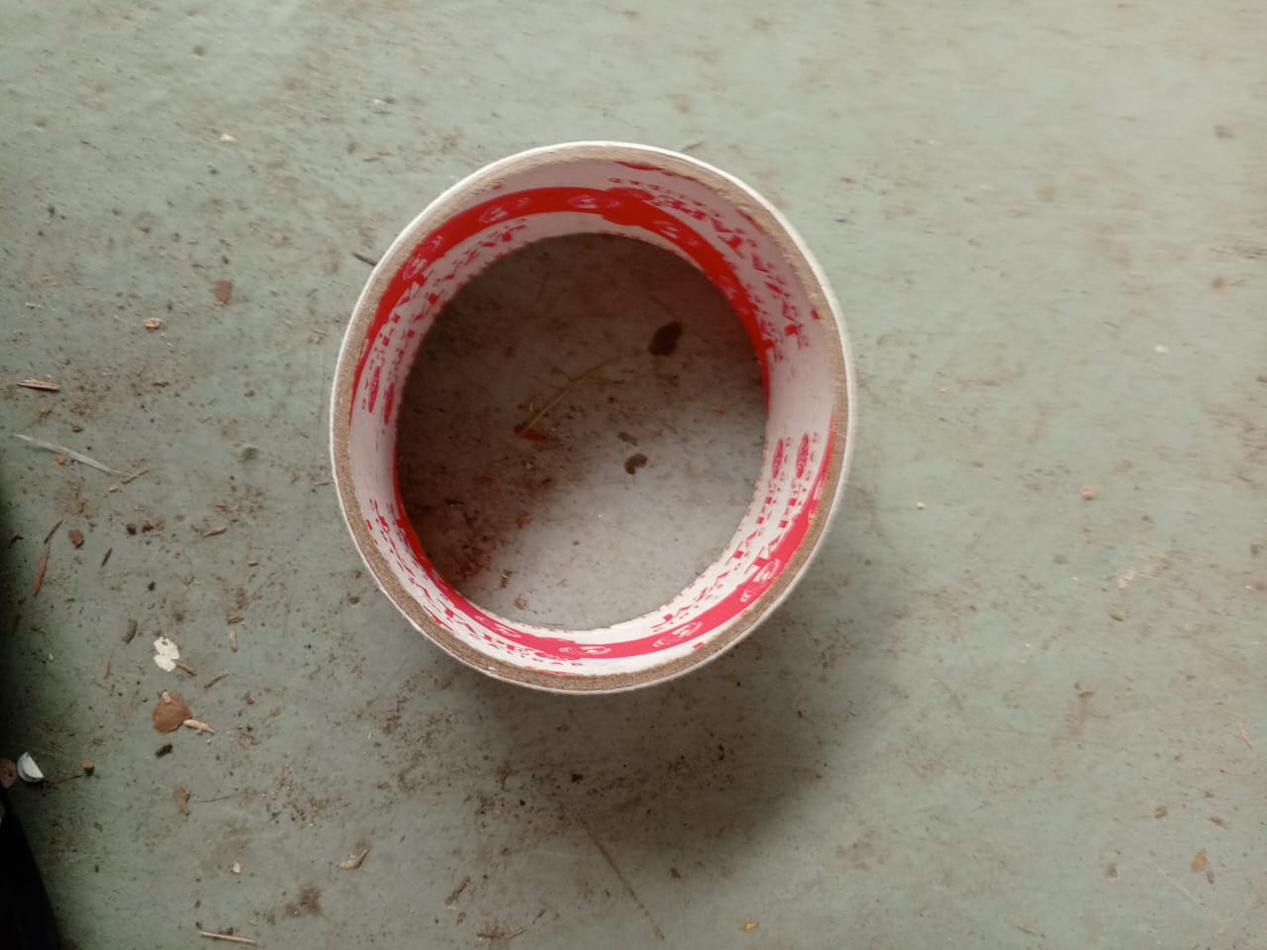Carton: (326, 140, 856, 696)
